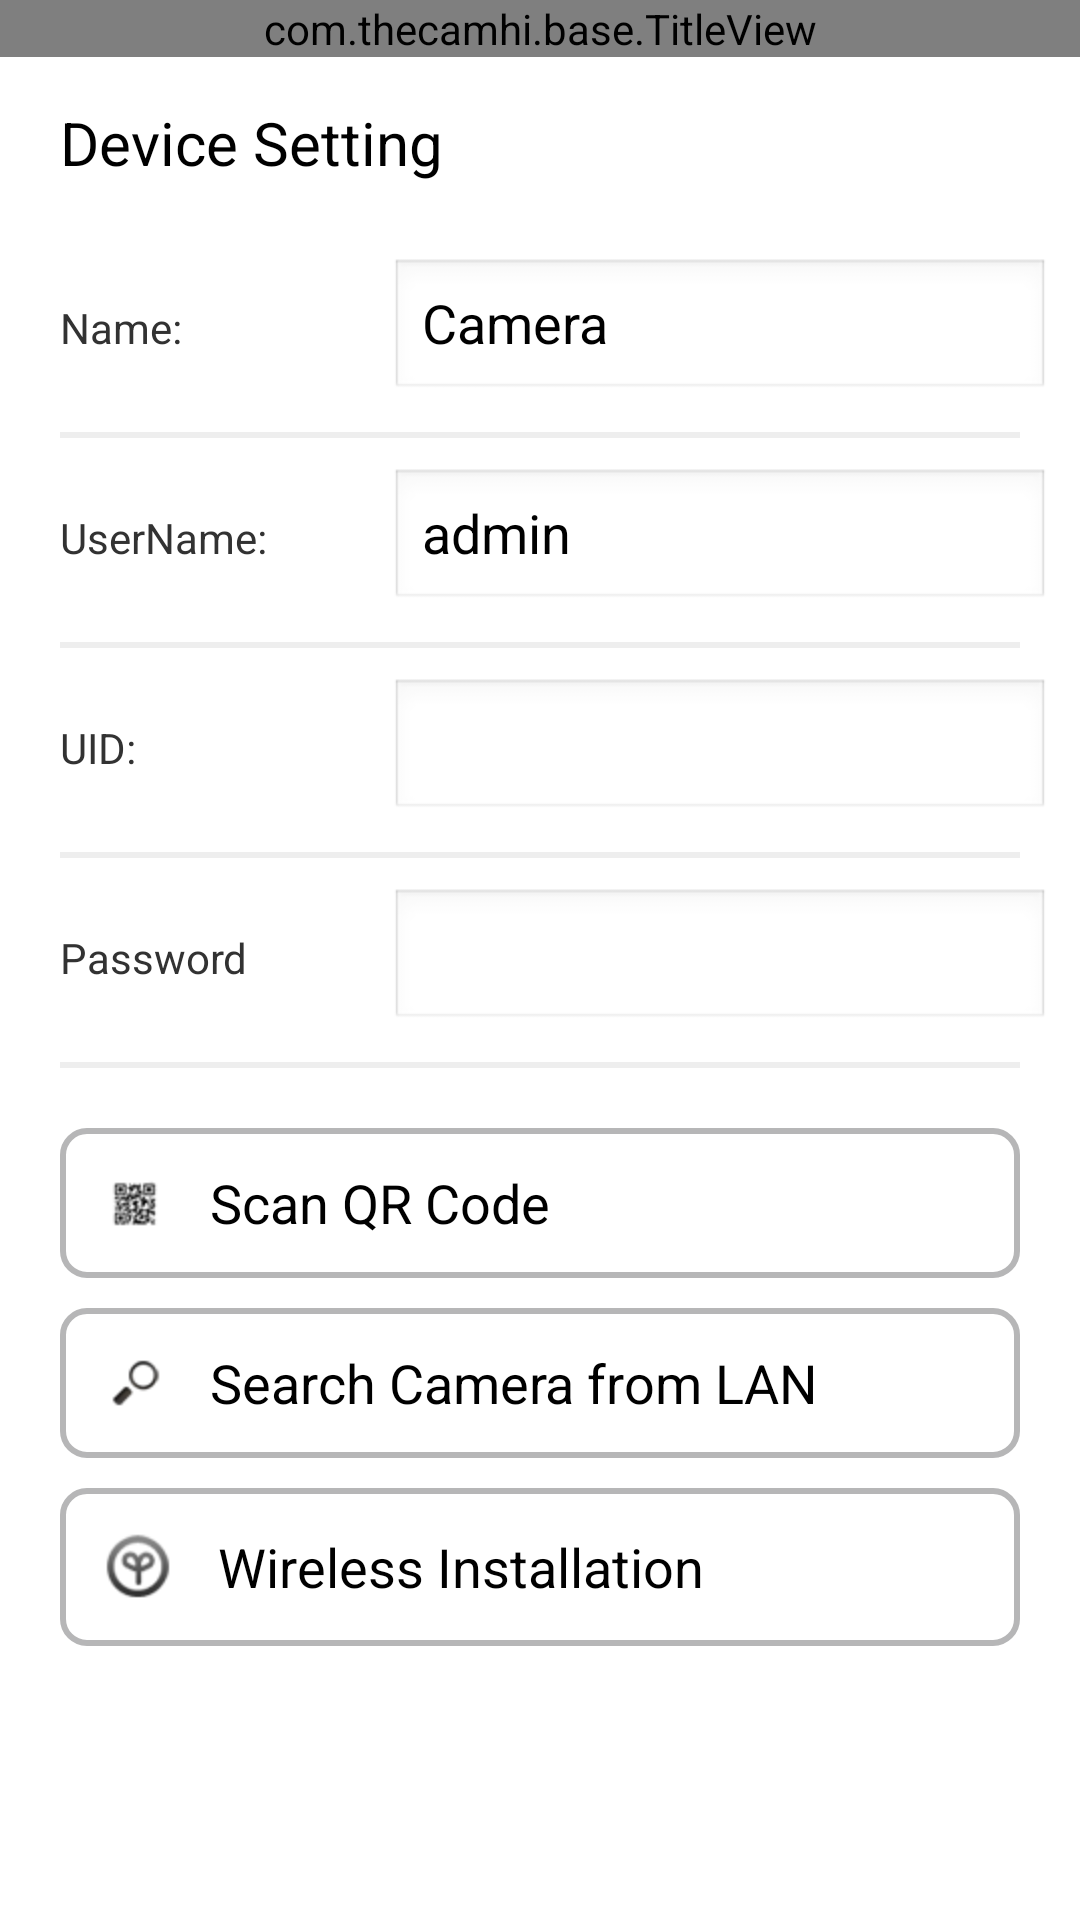

Icon click points for this 1080 x 1920 phone screenshot, format [x,y]:
add search from lan: [136,1383]
